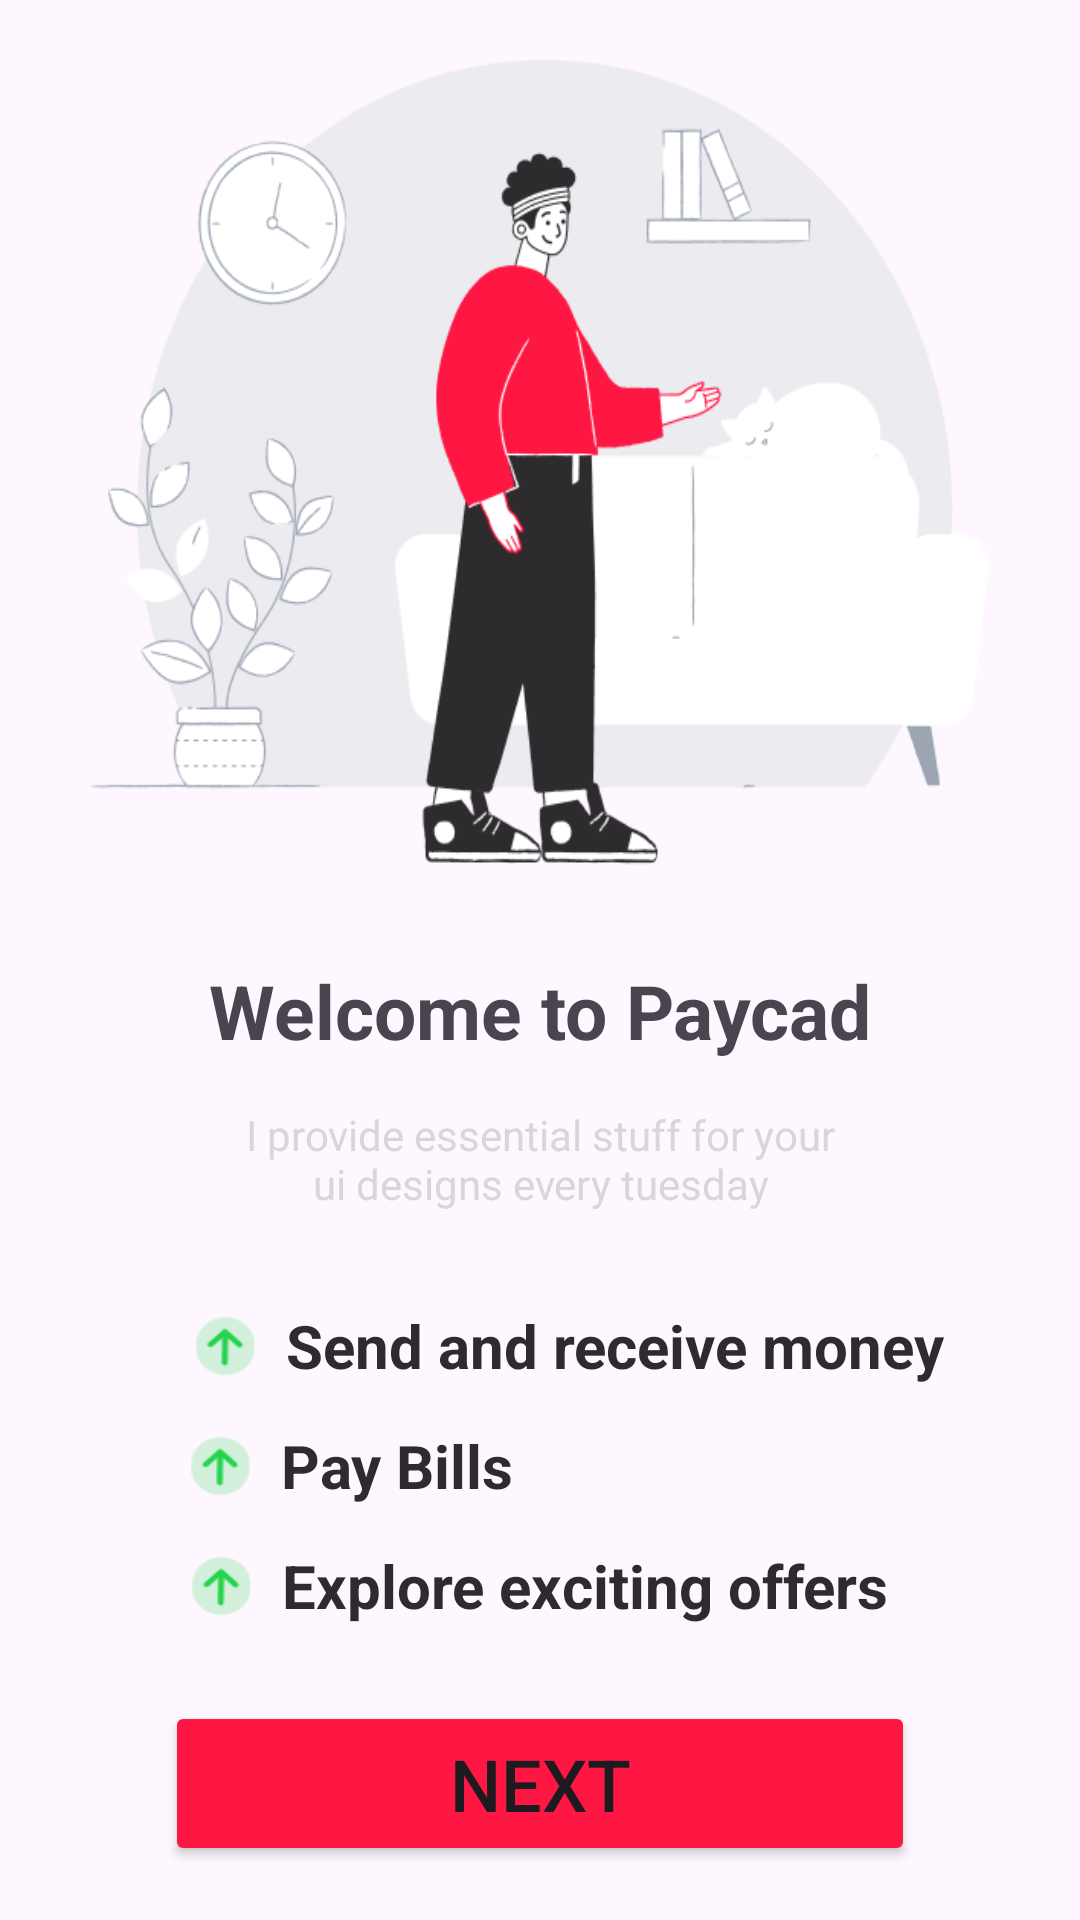

Named icons in this screenshot (1080px×1920px) and their bounding boxes, BBox(x1, y1, x2, y2):
arraw top: BBox(196, 1317, 254, 1375), BBox(191, 1437, 249, 1495), BBox(192, 1557, 250, 1615)
